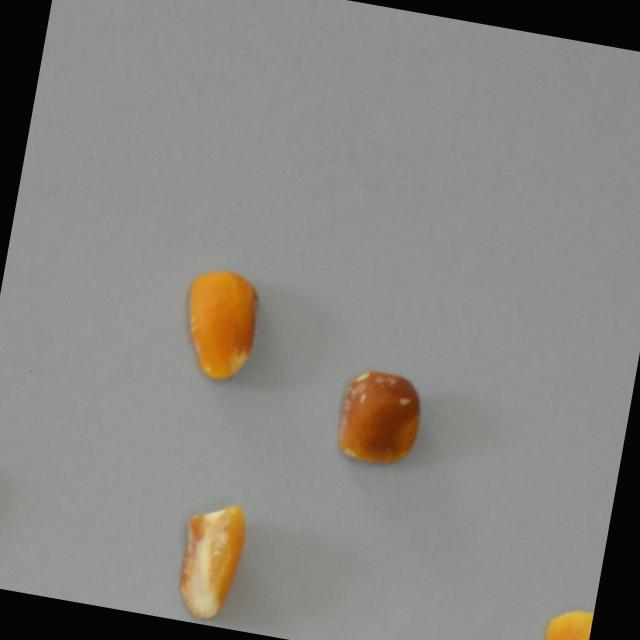dañado: (174, 261, 269, 390), (330, 357, 434, 474), (167, 490, 253, 628), (540, 598, 595, 640)
